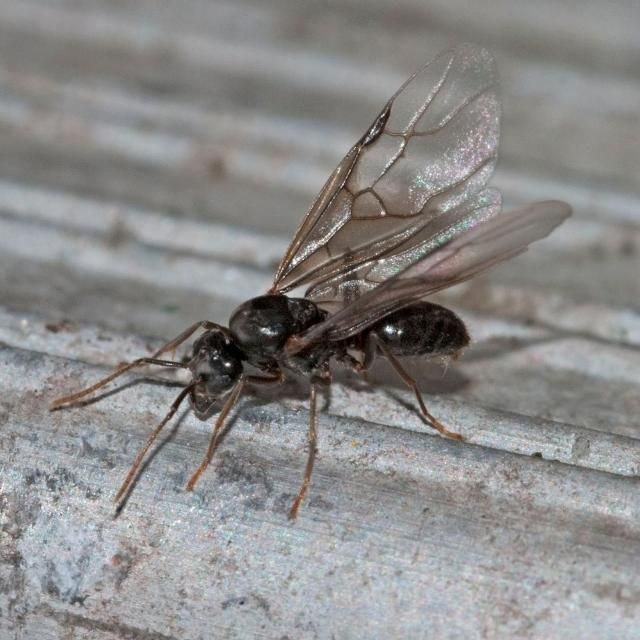Lasius: (73, 133, 572, 453)
